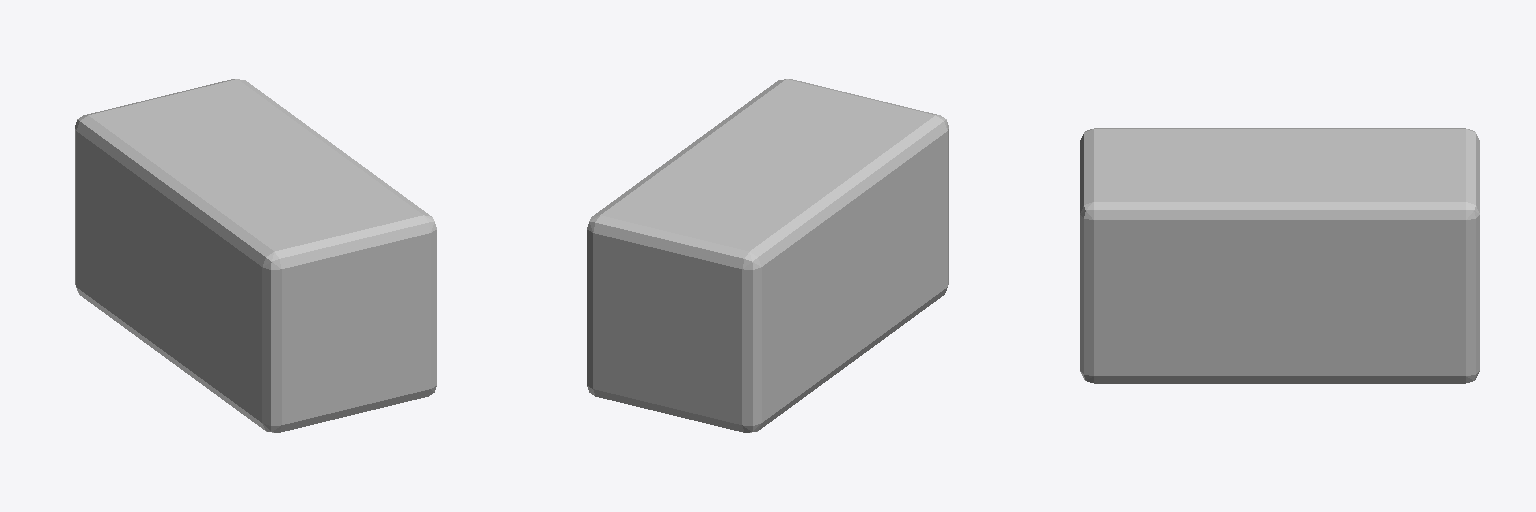
Rendered from rightToolArm.obj.
The picture shows the model from 3 angles: view 1: azimuth 30°, elevation 25°; view 2: azimuth 150°, elevation 25°; view 3: azimuth 270°, elevation 25°; orthographic projection.
Visible parts, largest first — view 1: Cube.004_Cube.006; view 2: Cube.004_Cube.006; view 3: Cube.004_Cube.006.
Part boxes in pixels (x1,y1,x2,y2): Cube.004_Cube.006: (75,79,436,432); Cube.004_Cube.006: (587,79,948,432); Cube.004_Cube.006: (1080,128,1479,383).
Bounding box in the file's own units: 1 × 1 × 2.